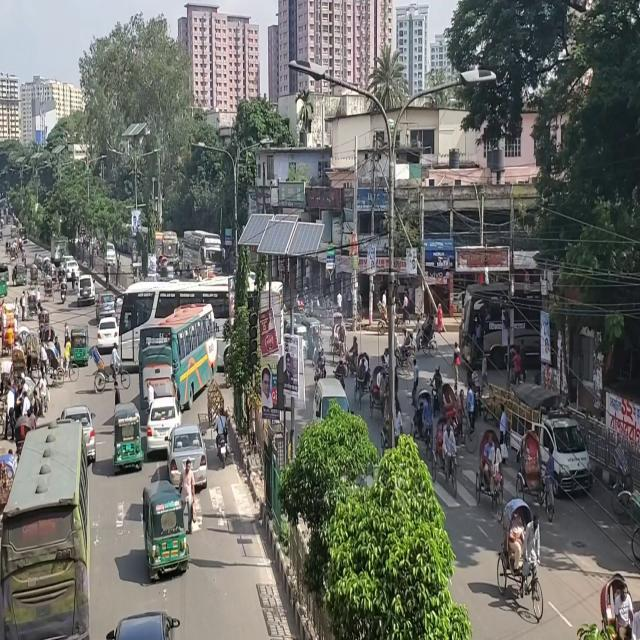silver: (168, 427, 208, 491)
white: (147, 397, 181, 453), (97, 316, 120, 351)
